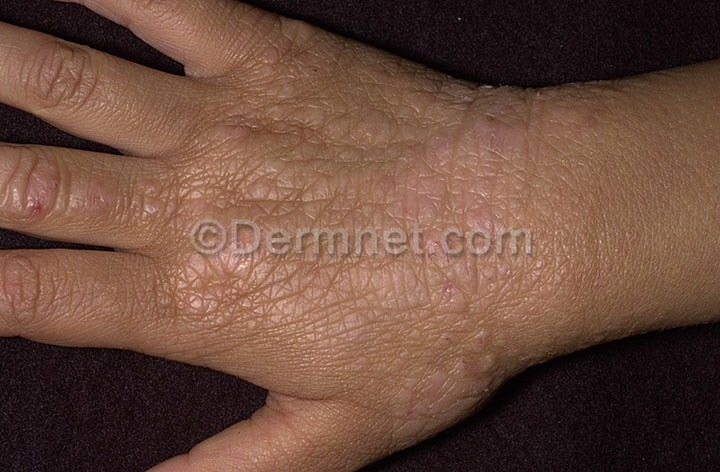Eczema: (8, 1, 635, 450)
